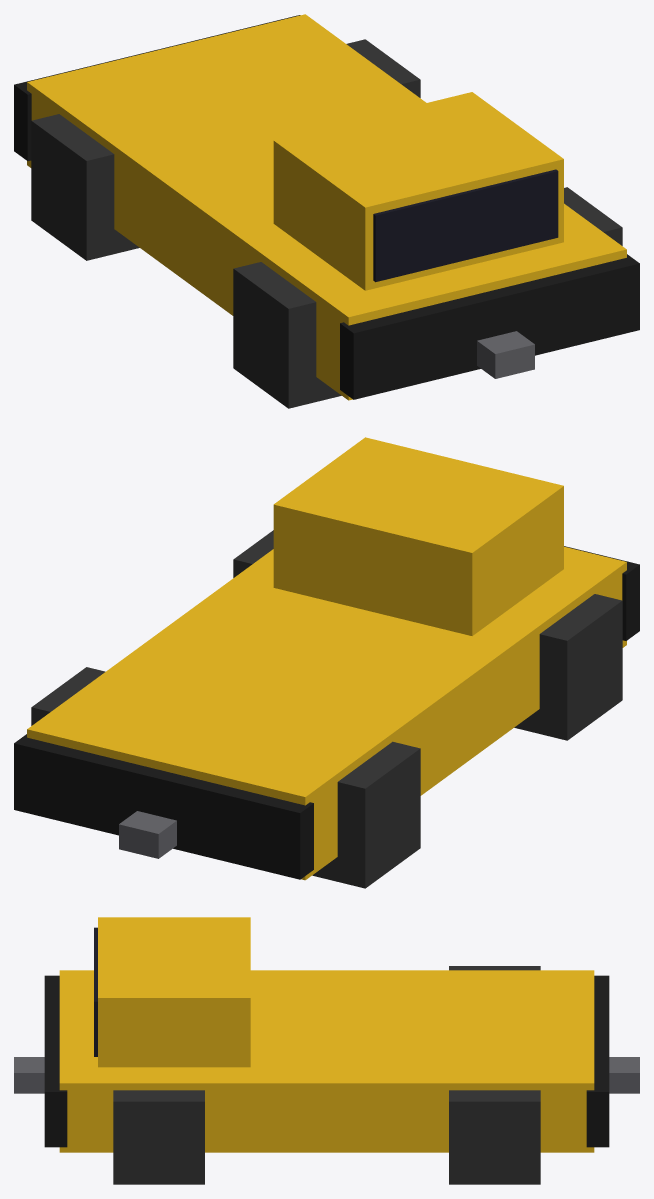
File: pushback_tractor.obj
3 views of the same model, one above another, from view 1: azimuth 30°, elevation 25°; view 2: azimuth 150°, elevation 25°; view 3: azimuth 270°, elevation 25° (orthographic). The views are drawn at different scales.
Bounding box in the file's own units: 4.2 × 2.3 × 8.2.
